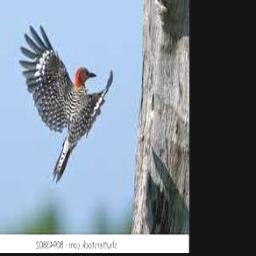Woodpecker: (18, 25, 113, 183)
